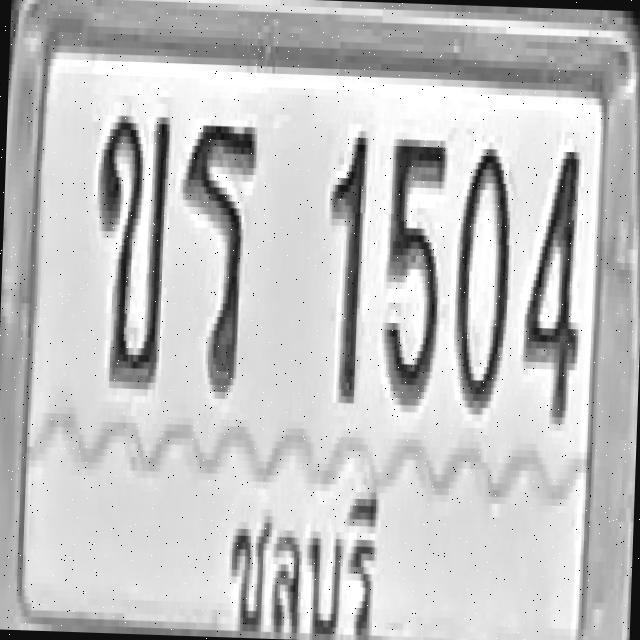0: (451, 138, 512, 412)
1: (322, 126, 368, 400)
11KhorKhai: (90, 105, 170, 386)
4: (520, 140, 584, 421)
44RorRuea: (175, 114, 258, 390)
5: (381, 128, 446, 402)
Chonburi: (216, 466, 384, 640)
